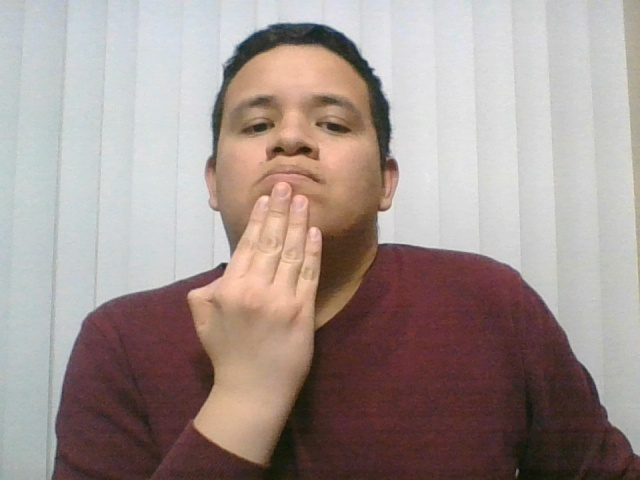Thank you: (134, 168, 406, 418)
